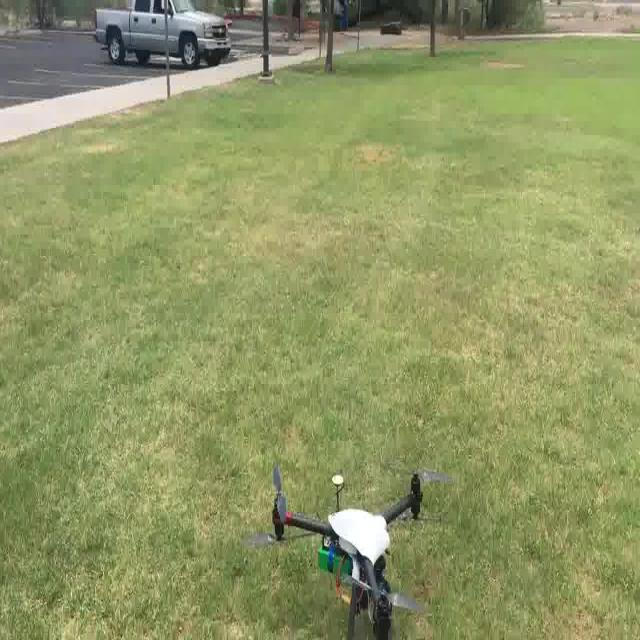drones: (227, 450, 470, 640)
